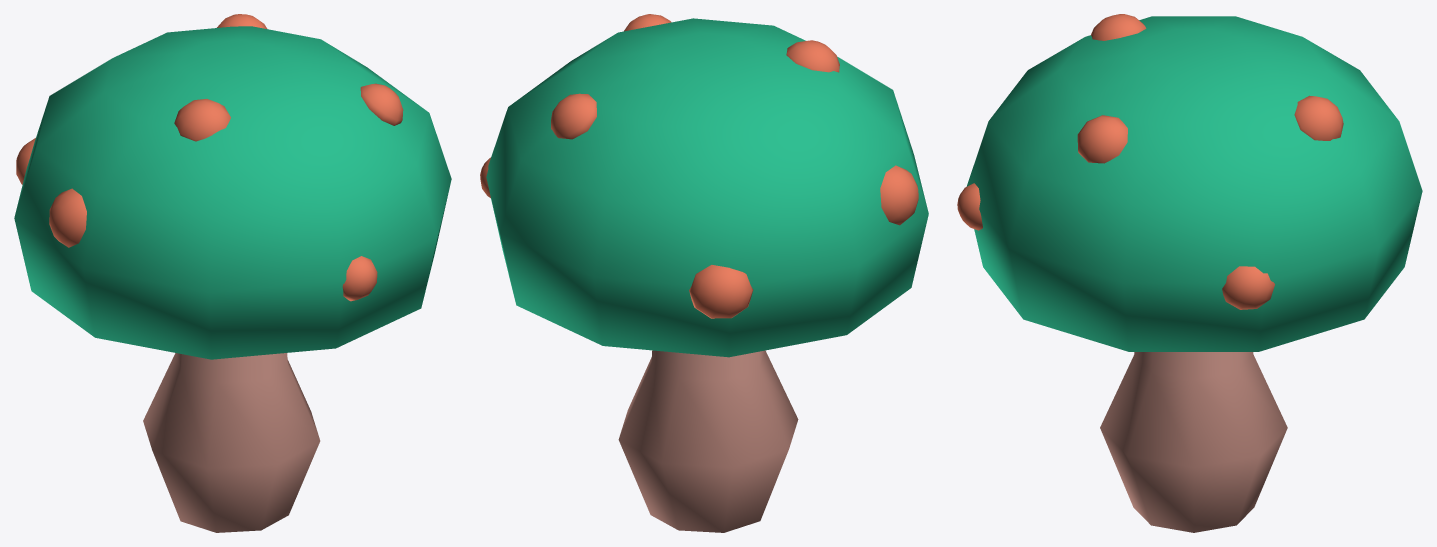
The model's file is Mushroom_FlyAgaric_Turquoise_2.fbx.
3 views of the same model, side by side, from view 1: azimuth 30°, elevation 25°; view 2: azimuth 150°, elevation 25°; view 3: azimuth 270°, elevation 25° (orthographic). The views are drawn at different scales.
Parts seen in each view (by area): view 1: Cylinder.565, Cylinder.563, Cylinder.564; view 2: Cylinder.565, Cylinder.563, Cylinder.564; view 3: Cylinder.565, Cylinder.563, Cylinder.564.
Boxes of the visible parts, x1=… form: Cylinder.565: x1=14, y1=26, x2=451, y2=359; Cylinder.563: x1=143, y1=353, x2=320, y2=532; Cylinder.564: x1=16, y1=14, x2=403, y2=301; Cylinder.565: x1=486, y1=18, x2=928, y2=357; Cylinder.563: x1=618, y1=350, x2=798, y2=532; Cylinder.564: x1=480, y1=14, x2=918, y2=318; Cylinder.565: x1=966, y1=16, x2=1422, y2=351; Cylinder.563: x1=1100, y1=352, x2=1287, y2=532; Cylinder.564: x1=957, y1=14, x2=1343, y2=309.
Bounding box in the file's own units: 81.42 × 90.44 × 83.11.
